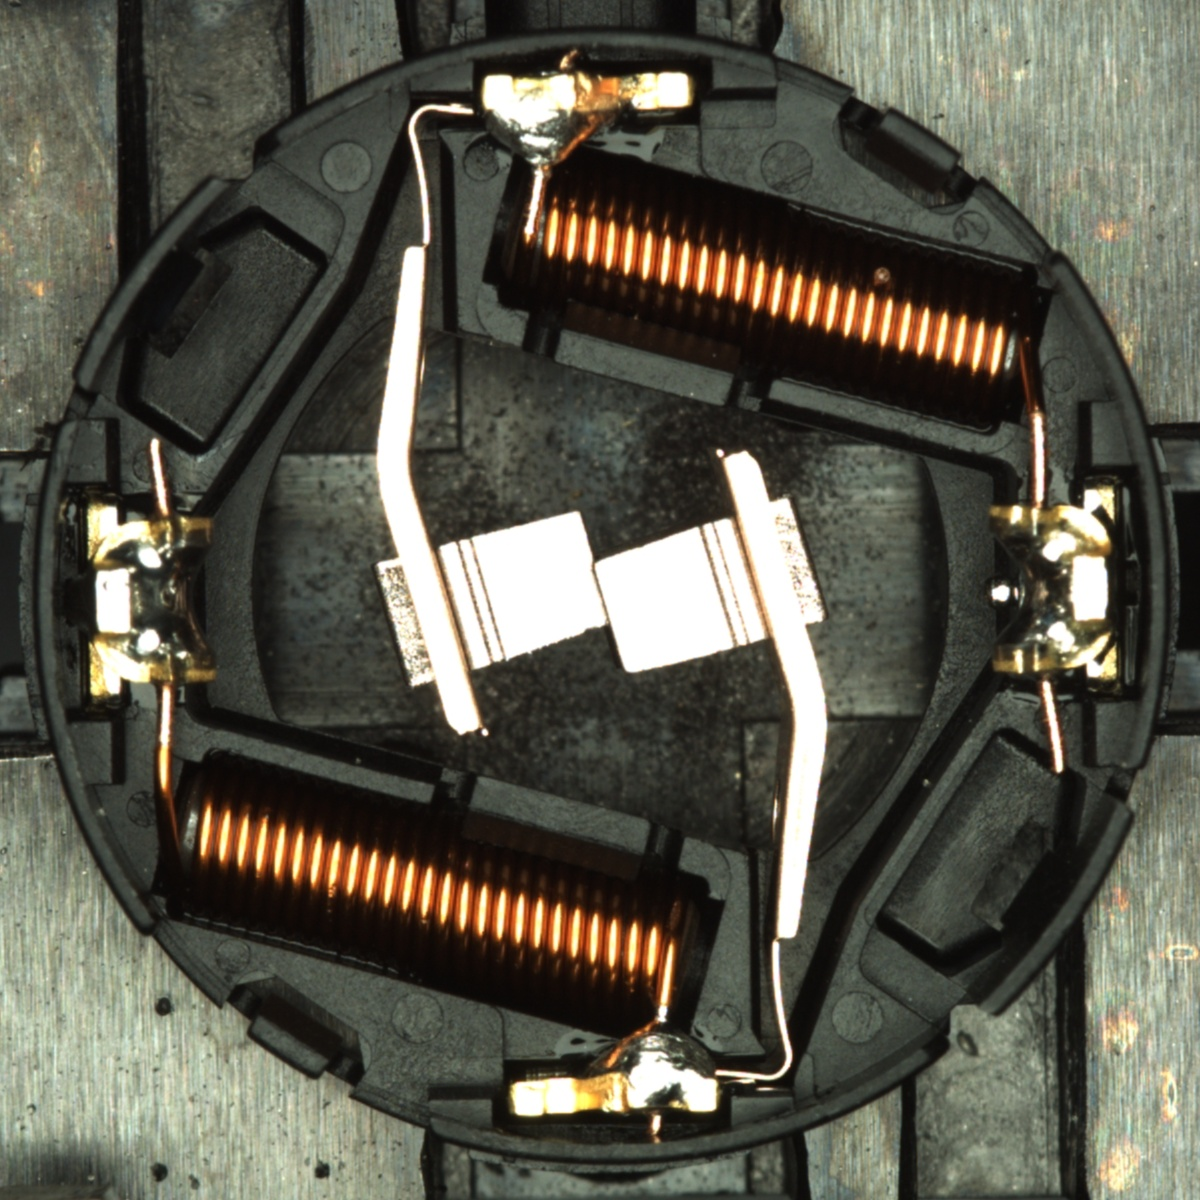1: (256, 31, 486, 255), (714, 929, 944, 1153)
2: (714, 31, 944, 255), (256, 929, 486, 1153)
3: (27, 255, 256, 480), (944, 704, 1173, 929)
4: (256, 255, 486, 480), (714, 704, 944, 929)
5: (486, 143, 714, 368), (486, 816, 714, 1041)
6: (714, 255, 944, 480), (256, 704, 486, 929)
7: (944, 255, 1173, 480), (27, 704, 256, 929)
cacbon: (400, 499, 800, 685)
chau_dien: (80, 498, 220, 699), (984, 486, 1124, 685)
hat_chi: (982, 574, 1019, 612)
tay_choi: (480, 69, 698, 173), (507, 1020, 722, 1120)
thanh_de: (953, 784, 1143, 1032), (60, 164, 245, 405)
